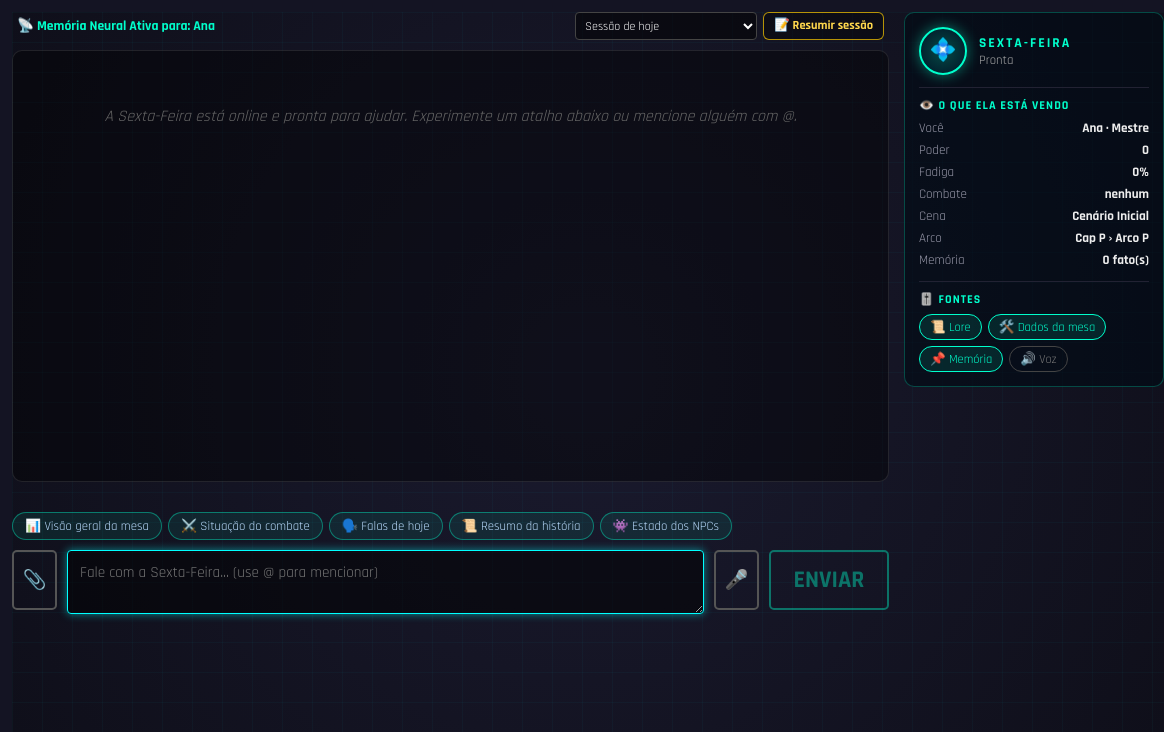
Test case: ResumirSessaoMestre (via AIChat) › fluxo completo: resumo aparece no chat com destino sugerido pre-selecionado
Click the button "📝 Resumir sessão" at point(824, 26), box [763,12,884,40]
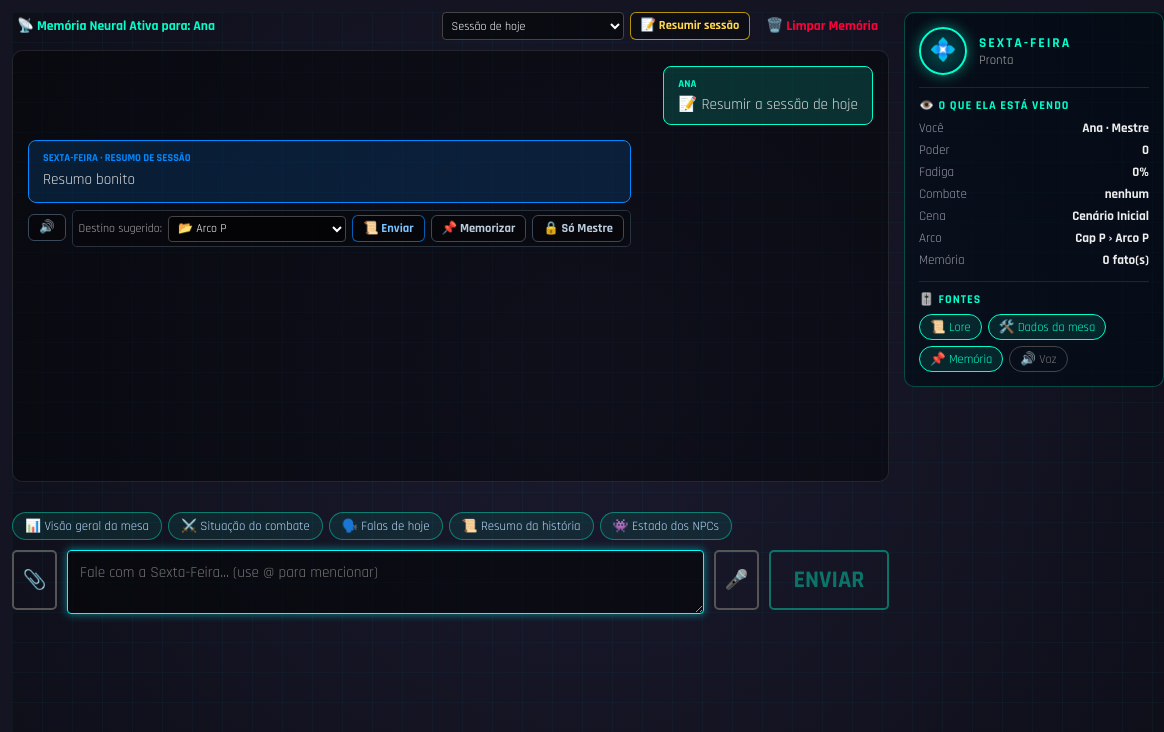
Check: the text "Resumo bonito" is shown, box [43,170,135,189]
Check: the text "Destino sugerido:" is shown, box [79,221,162,236]
